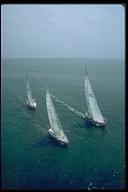sailboat: (83, 65, 108, 128), (45, 87, 70, 147), (24, 70, 38, 111)
sky: (2, 5, 123, 59)
water: (1, 148, 125, 187)
